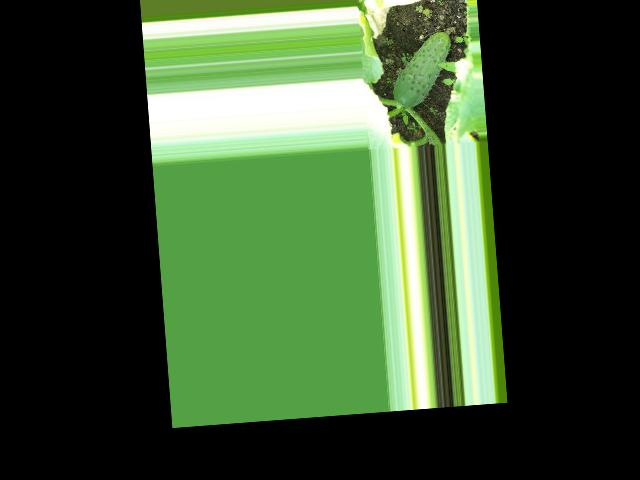cucumber: (388, 31, 455, 109)
